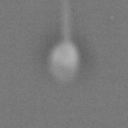normal: (56, 1, 79, 40)
